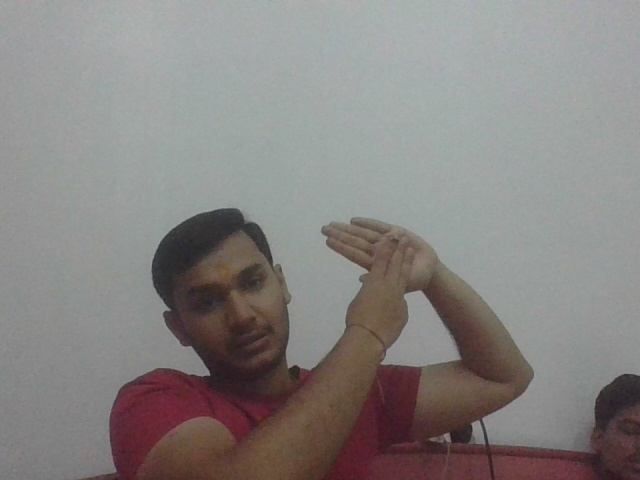M: (316, 213, 440, 319)
